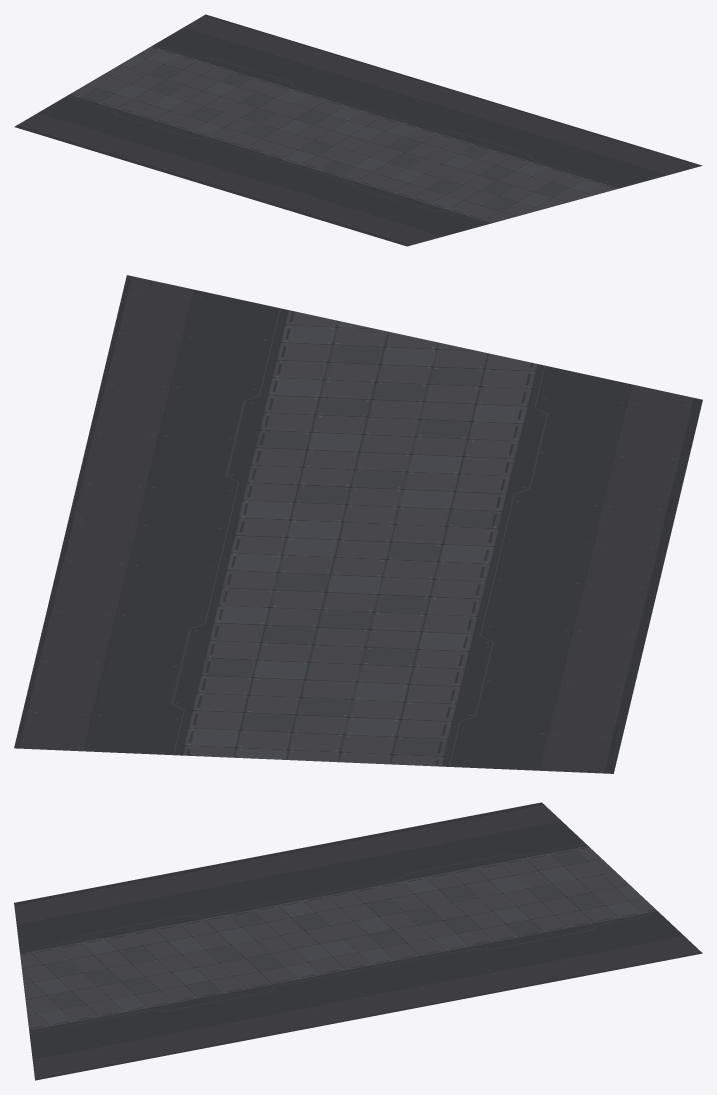
The model's file is Floor_to_tunnel.glb.
The picture shows the model from 3 angles, top to bottom: view 1: azimuth 30°, elevation 25°; view 2: azimuth 150°, elevation 25°; view 3: azimuth 270°, elevation 25°; orthographic projection. The views are drawn at different scales.
Parts seen in each view (by area): view 1: Plane.015; view 2: Plane.015; view 3: Plane.015.
Part boxes in pixels (x1,y1,x2,y2): Plane.015: [14, 14, 702, 246]; Plane.015: [14, 275, 702, 773]; Plane.015: [14, 802, 702, 1080].
Size of the model in its own units: 3.76 by 0 by 3.93.
1 material, 1 textured.
